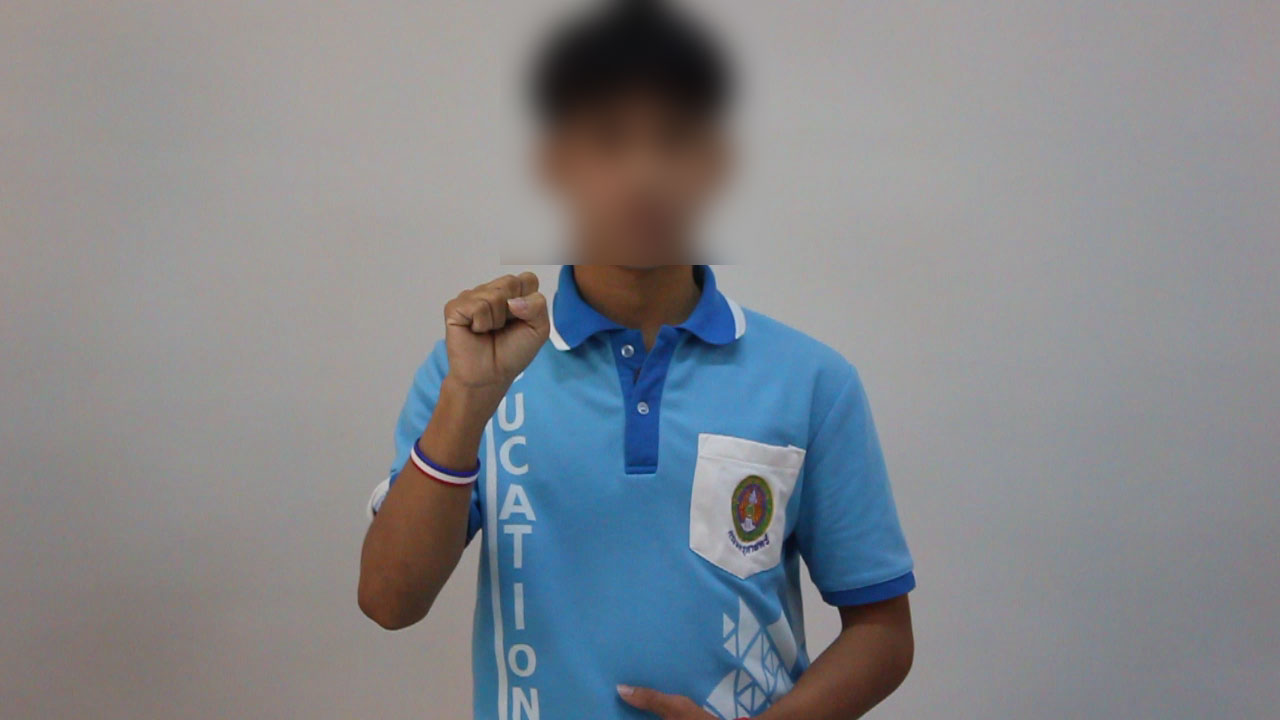sor: (425, 258, 558, 403)
